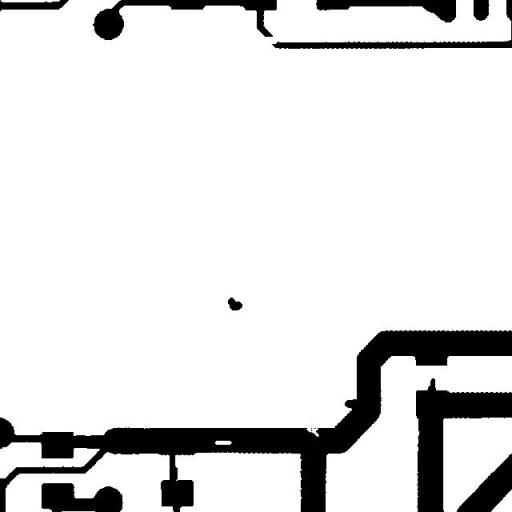copper: (220, 290, 250, 318)
mousebite: (298, 420, 326, 444)
open: (255, 29, 289, 51)
pin-hole: (207, 433, 239, 452)
short: (58, 427, 121, 456), (162, 444, 184, 490)
spur: (418, 370, 444, 402), (337, 391, 366, 416)
